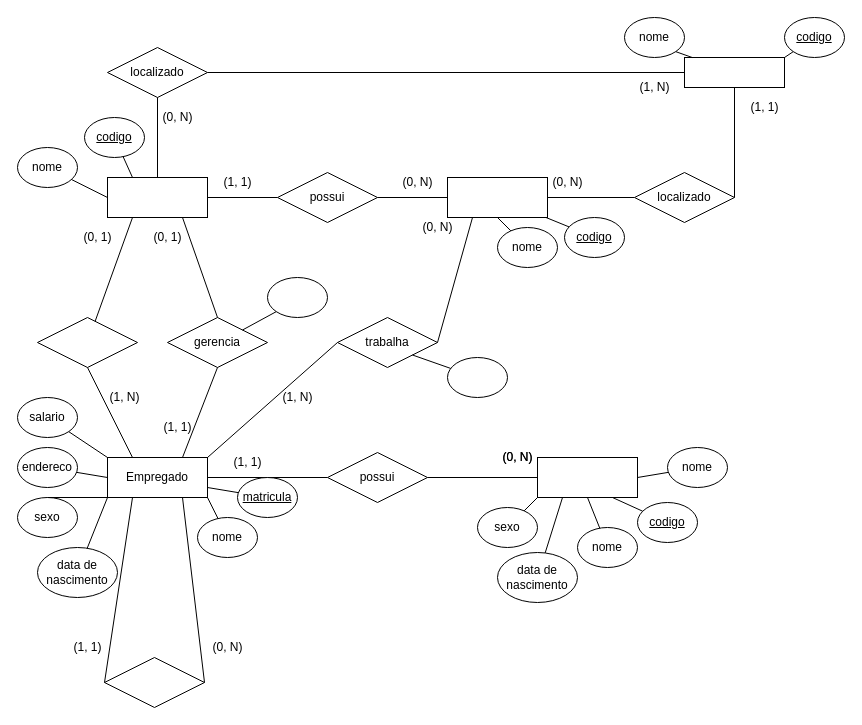
This 862x725 diagram has some shape labels left out. The shapes that lost their labels are listed below. From the top down, each one's centre as x and y in pixels, then its label:
point 734,72: Cidade
point 157,197: Departamento
point 497,197: Projeto
point 297,297: data
point 87,342: alocado
point 477,377: horas
point 587,477: Dependente
point 154,682: supervisiona
